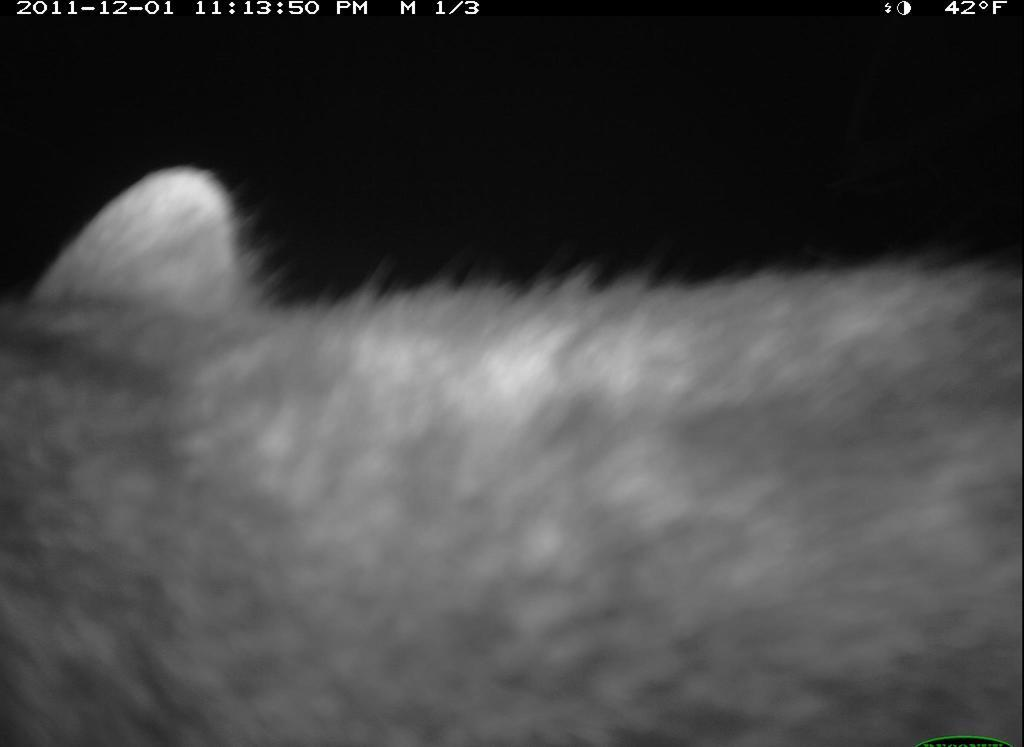raccoon: (2, 158, 1021, 744)
